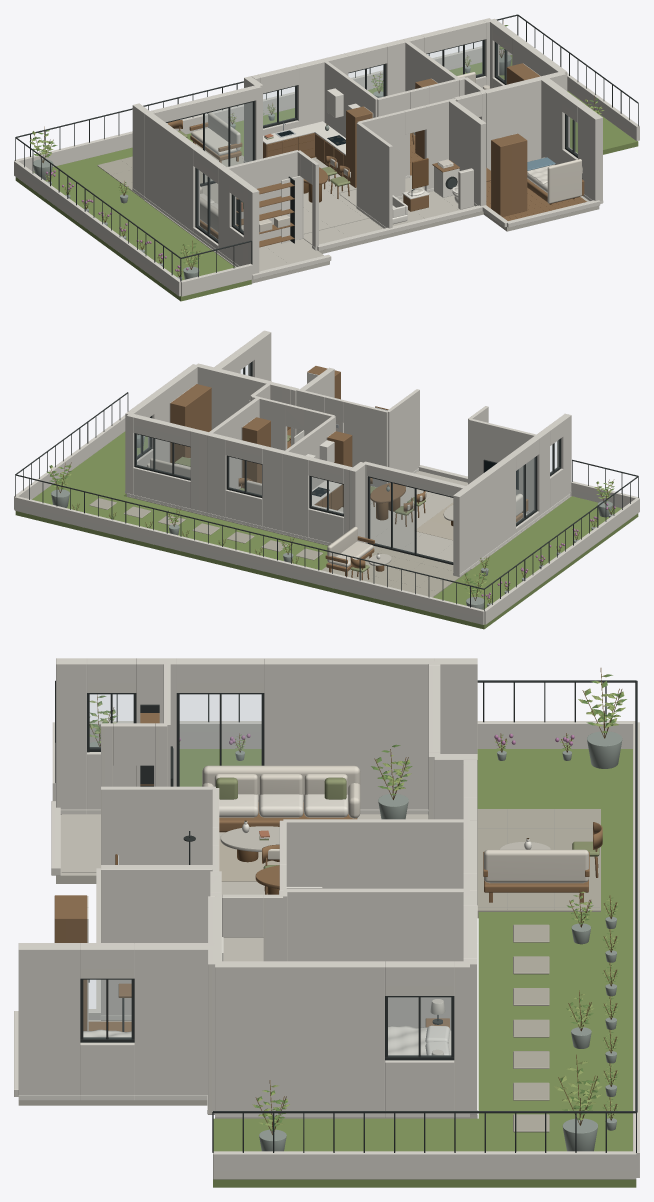
File: apartment-v1.glb
3 views of the same model, one above another, from view 1: azimuth 30°, elevation 25°; view 2: azimuth 150°, elevation 25°; view 3: azimuth 270°, elevation 25° (orthographic). The views are drawn at different scales.
Parts seen in each view (by area): view 1: GD_Garden lawn, GD_West facade pier 0, GD_Garden boundary North, GD_Main south end, GD_Bath west, GD_Garden boundary West, GD_Guest wardrobe carcass, GD_Bath guest, GD_Store north, GD_Guest east end, GD_Apartment slab, GD_Guest east pier 0 (+55 smaller); view 2: GD_Garden lawn, GD_Garden boundary North, GD_West facade pier 0, GD_Living finish, GD_Patio, GD_Store north, GD_Garden boundary West, GD_Bath north pier 0, GD_Bath west, GD_Main south end, GD_North kitchen end, GD_Main wardrobe carcass (+47 smaller); view 3: GD_Garden lawn, GD_Main east end, GD_West facade pier 0, GD_Main partition end, GD_Kitchen child end, GD_Garden boundary East, GD_Guest east pier 0, GD_Guest east end, GD_Bath guest, GD_Bath west, GD_Patio, GD_Garden boundary West (+51 smaller).
Boxes of the visible parts, left/top/right/bottom form: GD_Garden lawn: left=15, top=55, right=638, bottom=301; GD_West facade pier 0: left=144, top=113, right=199, bottom=231; GD_Garden boundary North: left=14, top=45, right=512, bottom=171; GD_Main south end: left=483, top=71, right=565, bottom=170; GD_Bath west: left=356, top=122, right=392, bottom=228; GD_Garden boundary West: left=14, top=161, right=180, bottom=296; GD_Guest wardrobe carcass: left=491, top=133, right=527, bottom=216; GD_Bath guest: left=449, top=99, right=486, bottom=205; GD_Store north: left=224, top=150, right=297, bottom=241; GD_Guest east end: left=578, top=105, right=602, bottom=203; GD_Apartment slab: left=144, top=175, right=599, bottom=283; GD_Guest east pier 0: left=540, top=77, right=569, bottom=164; GD_Garden lawn: left=15, top=431, right=638, bottom=629; GD_Garden boundary North: left=14, top=496, right=484, bottom=624; GD_West facade pier 0: left=466, top=454, right=515, bottom=565; GD_Living finish: left=370, top=486, right=527, bottom=561; GD_Patio: left=322, top=545, right=471, bottom=597; GD_Store north: left=468, top=418, right=538, bottom=511; GD_Garden boundary West: left=484, top=498, right=639, bottom=624; GD_Bath north pier 0: left=344, top=400, right=387, bottom=487; GD_Bath west: left=387, top=389, right=419, bottom=483; GD_Main south end: left=195, top=363, right=271, bottom=429; GD_North kitchen end: left=282, top=451, right=311, bottom=539; GD_Main wardrobe carcass: left=170, top=384, right=211, bottom=463; GD_Garden lawn: left=179, top=749, right=636, bottom=1187; GD_Main east end: left=215, top=961, right=384, bottom=1117; GD_West facade pier 0: left=264, top=658, right=434, bottom=809; GD_Main partition end: left=283, top=888, right=469, bottom=1030; GD_Kitchen child end: left=283, top=819, right=469, bottom=888; GD_Garden boundary East: left=213, top=1151, right=636, bottom=1179; GD_Guest east pier 0: left=134, top=943, right=214, bottom=1100; GD_Guest east end: left=18, top=943, right=80, bottom=1100; GD_Bath guest: left=101, top=865, right=215, bottom=1020; GD_Bath west: left=101, top=786, right=215, bottom=864; GD_Patio: left=477, top=809, right=600, bottom=918; GD_Garden boundary West: left=89, top=721, right=635, bottom=748.
Bounding box in the file's own units: 17.56 × 3.03 × 10.72.
